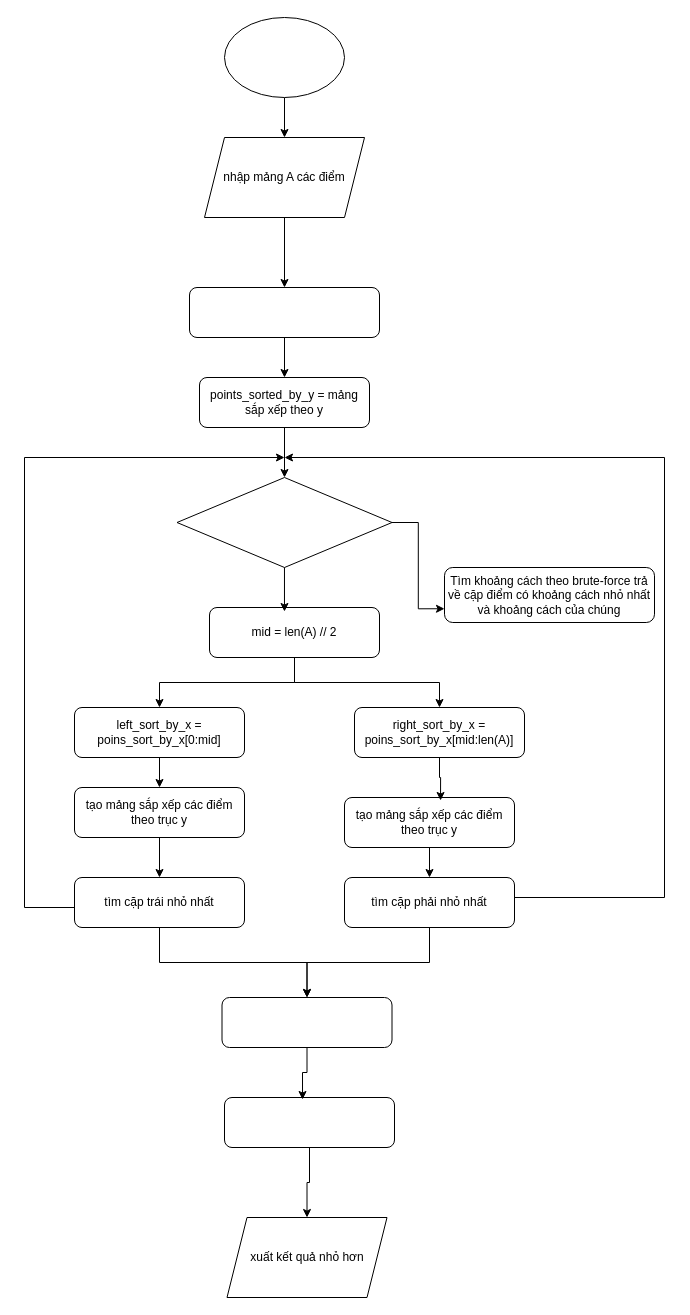
Some shapes in this 690 by 1315 pixel diagram are drawn without their labels. The shapes that lost their labels are listed below. From the top down, each one's centre as x and y in pixels, then its label:
(284,57): Bắt đầu
(284,312): points_sorted_by_x = mảng sắp xếp theo x
(284,522): len(points_sorted_by_x) <= 3
(306,1022): so sánh 2 khoảng cách của 2 cặp trái và phải và trả về cái nhỏ hơn
(309,1122): tìm cặp gần nhất giữa đường 2 phần
